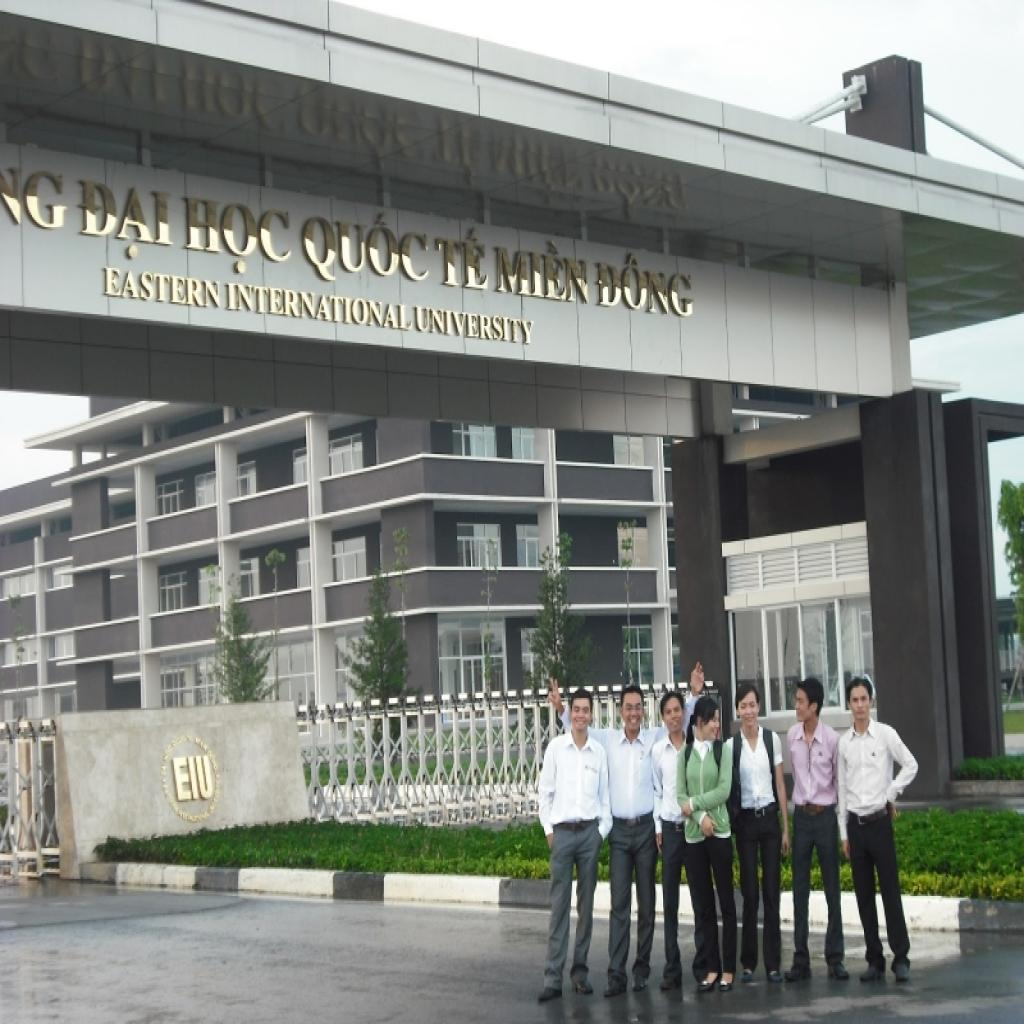text: (300, 203, 430, 295), (224, 280, 413, 333), (179, 195, 293, 278), (73, 176, 174, 259), (493, 230, 591, 309), (594, 249, 698, 319), (101, 264, 223, 309), (412, 304, 535, 346), (434, 222, 490, 292), (19, 167, 68, 232)
